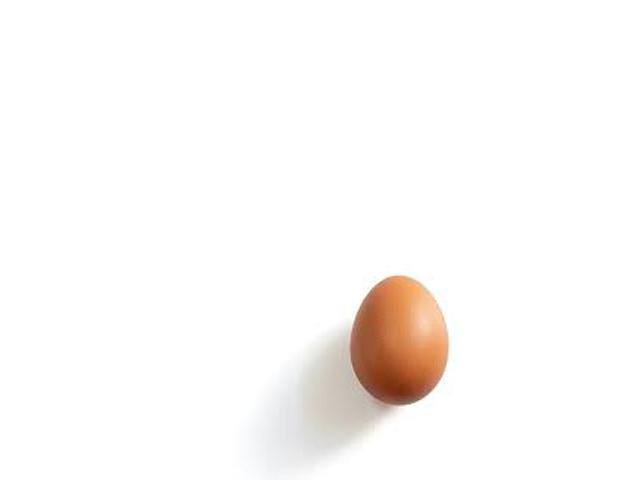egg: (351, 274, 447, 405)
